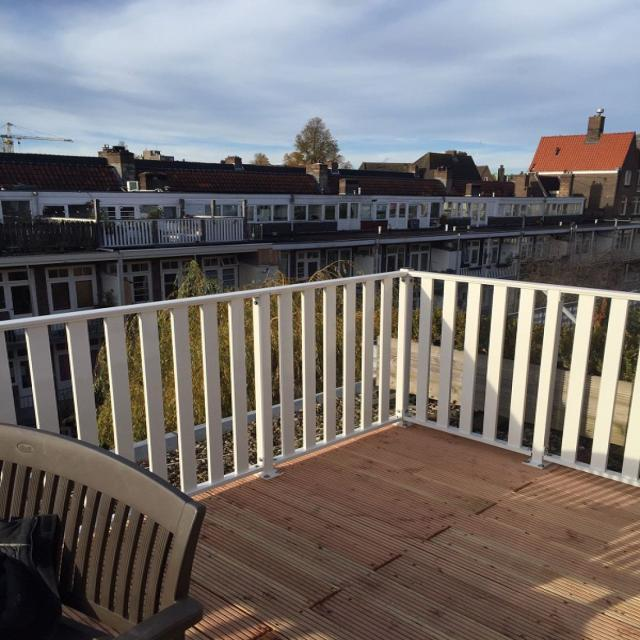fence line: (44, 278, 424, 482), (380, 279, 640, 470)
